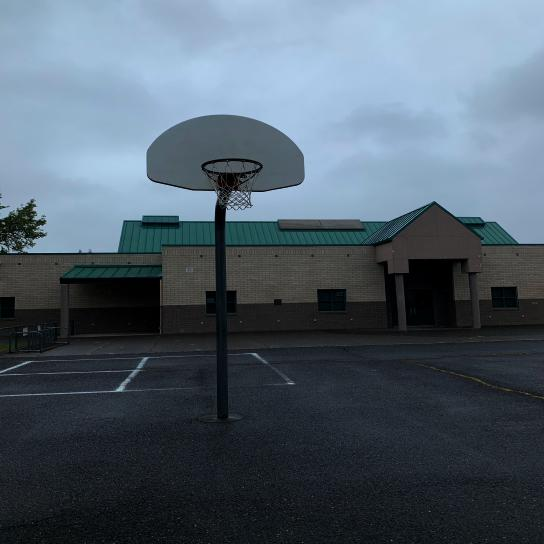basketball-hoop: (200, 157, 266, 211)
